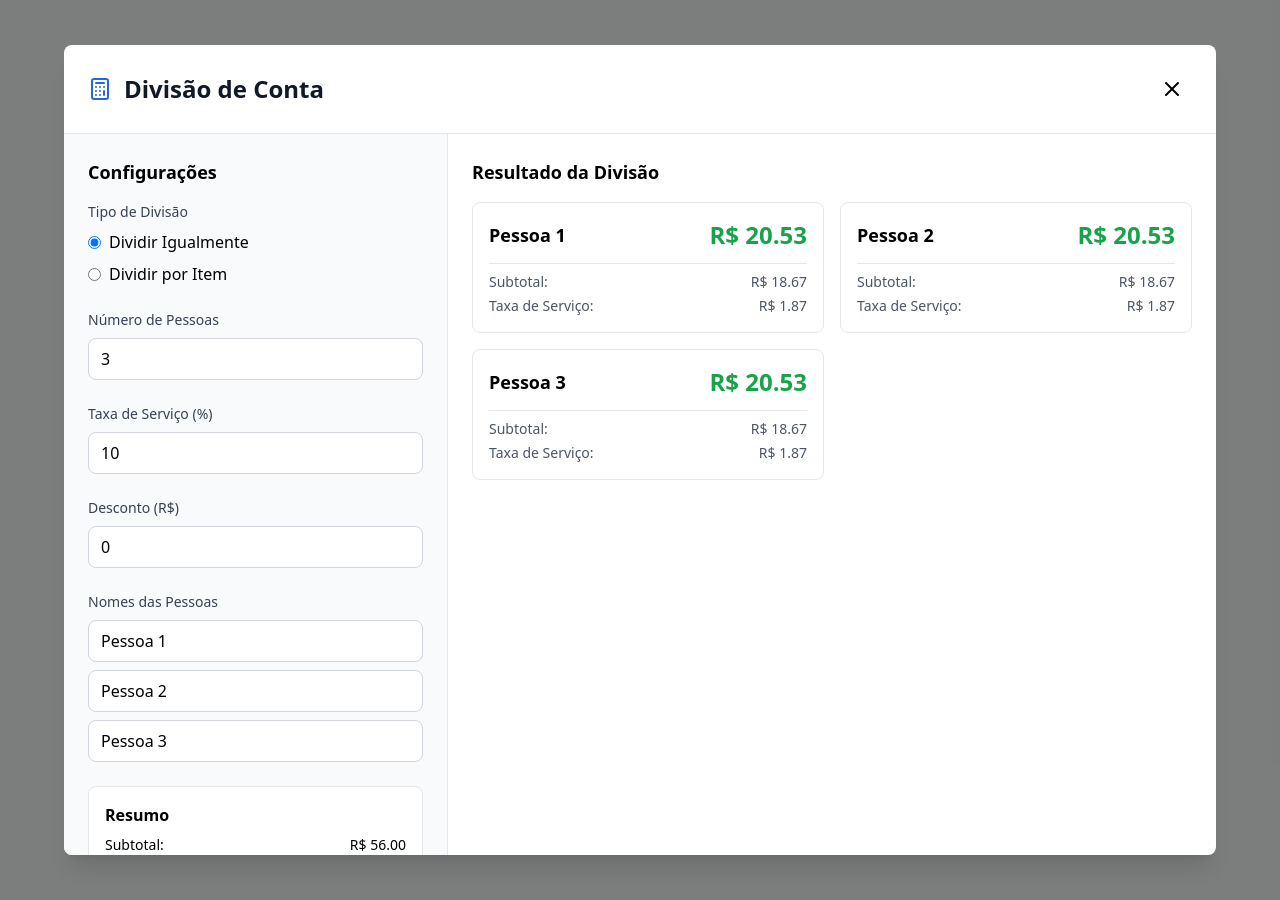
Test case: DivisaoContaModal › deve alternar para divisão por item
Step 1. Click the radio button showing "by_item" → (94, 274), box [88,268,101,280]
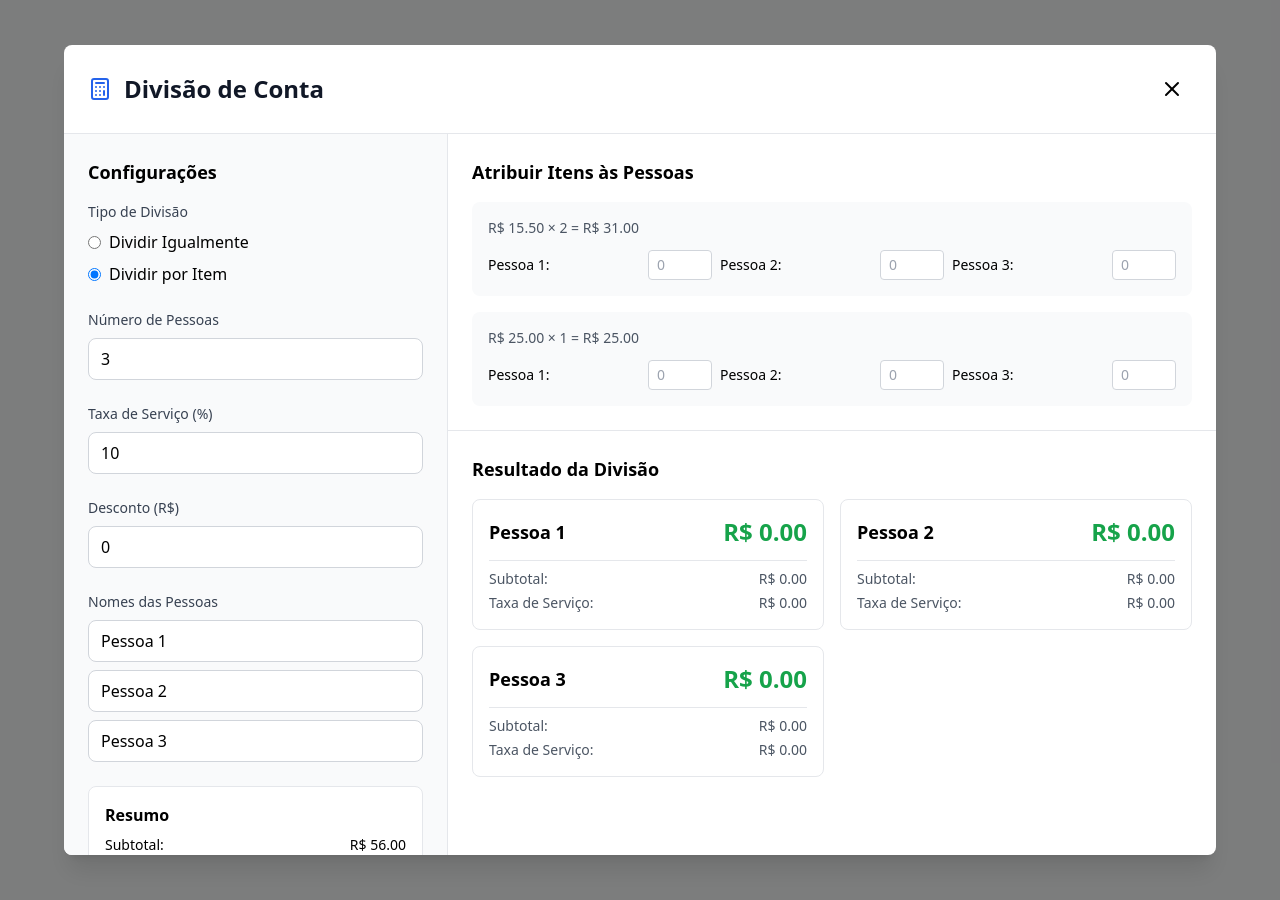
Now the radio button showing "by_item" is checked, box [88,268,101,280]
Now the heading "Atribuir Itens às Pessoas" is shown, box [472,160,694,184]
